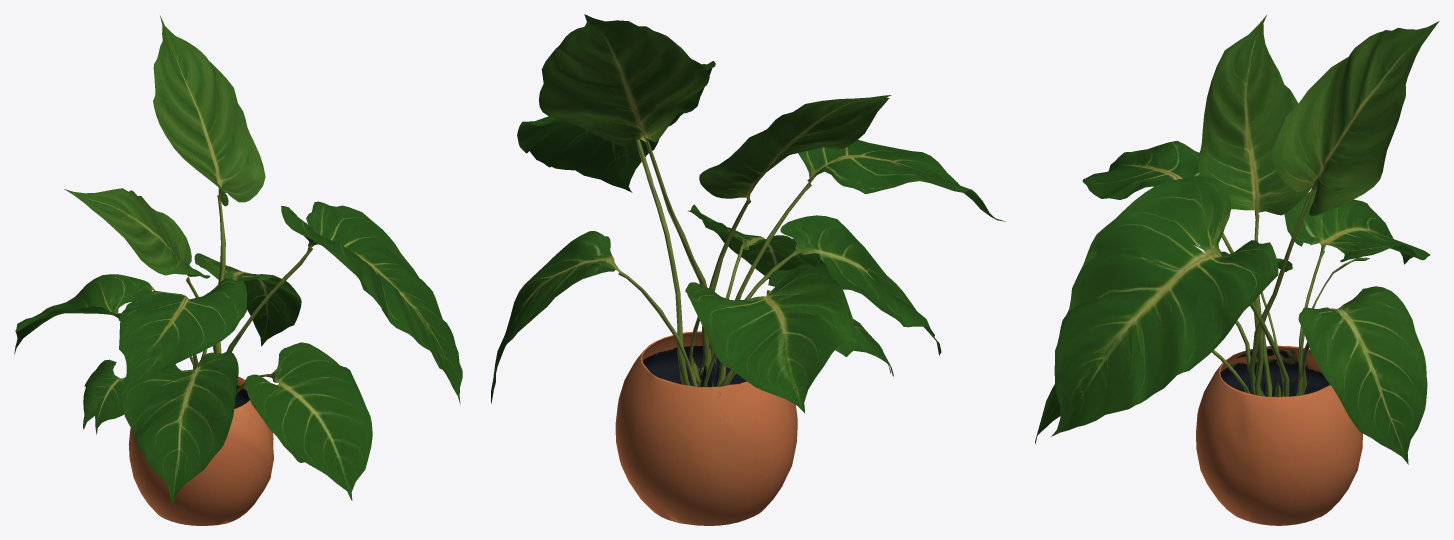
File: monstera.glb
3 renders of one model, left to right at view 1: azimuth 30°, elevation 25°; view 2: azimuth 150°, elevation 25°; view 3: azimuth 270°, elevation 25°, orthographic. The views are drawn at different scales.
Size of the model in its own units: 0.7979 by 0.9512 by 0.7002.
Materials: 1 (1 with a texture image).
